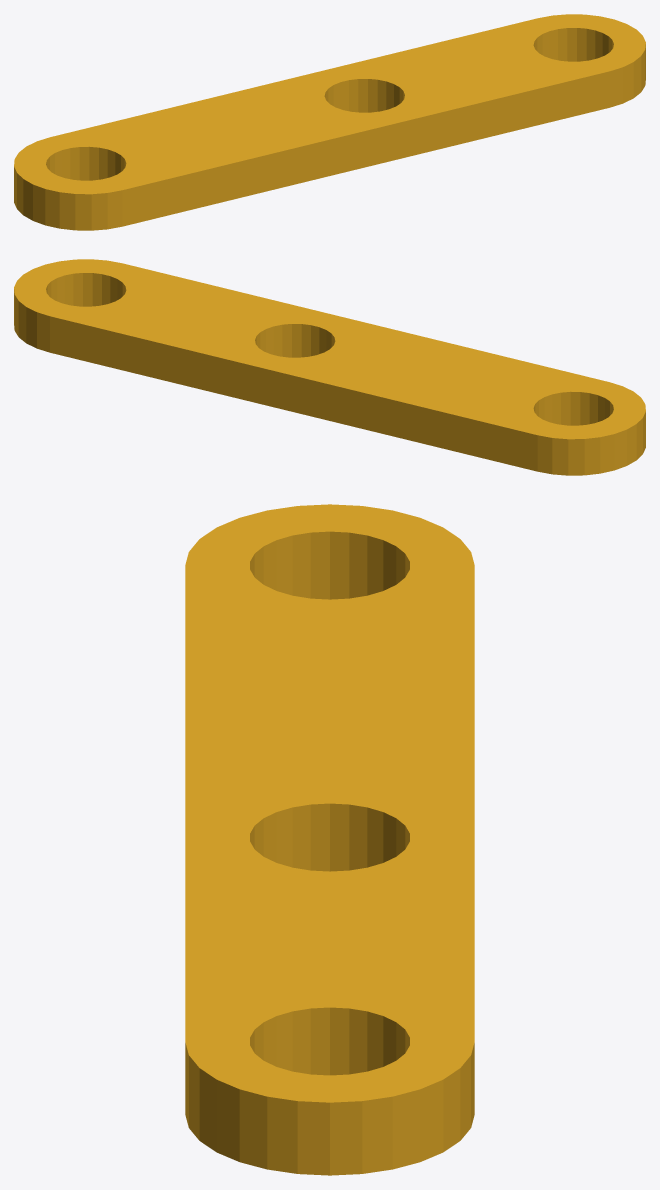
Rendered from TDJ-25-P-50006-ARM-C.glb.
3 views of the same model, one above another, from view 1: azimuth 30°, elevation 25°; view 2: azimuth 150°, elevation 25°; view 3: azimuth 270°, elevation 25° (orthographic). The views are drawn at different scales.
Bounding box in the file's own units: 55.88 × 3.17 × 11.43.
